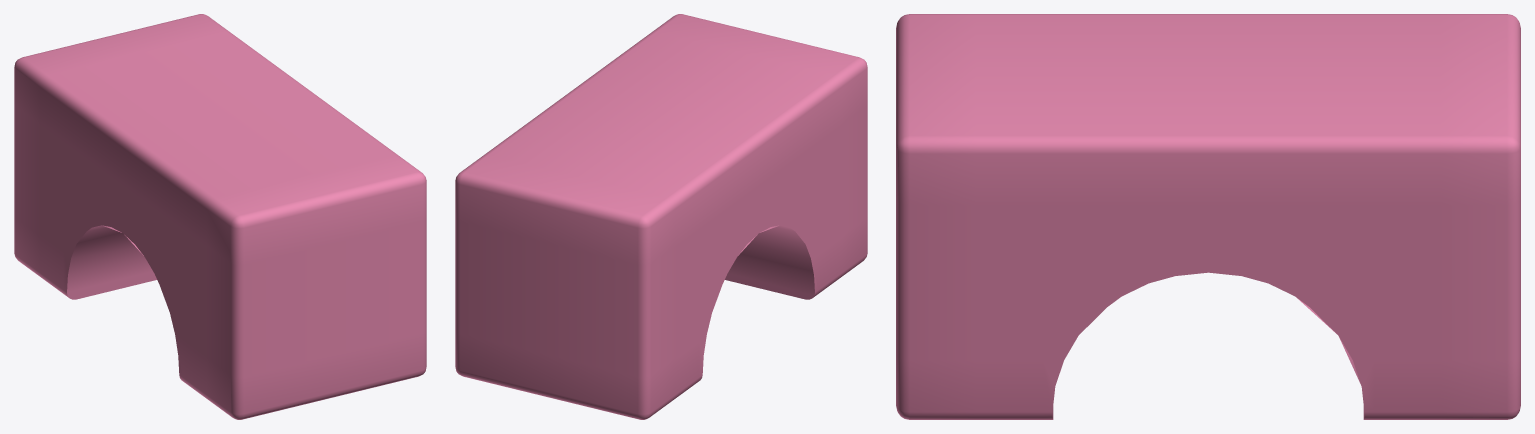
The model's file is Building block-arch.fbx.
3 renders of one model, left to right at view 1: azimuth 30°, elevation 25°; view 2: azimuth 150°, elevation 25°; view 3: azimuth 270°, elevation 25°, orthographic. The views are drawn at different scales.
Visible parts, largest first — view 1: Building block-arch; view 2: Building block-arch; view 3: Building block-arch.
Part boxes in pixels (x1,y1,x2,y2): Building block-arch: (14, 14, 426, 419); Building block-arch: (455, 14, 867, 419); Building block-arch: (896, 14, 1520, 419).
Bounding box in the file's own units: 200 × 200 × 400.
